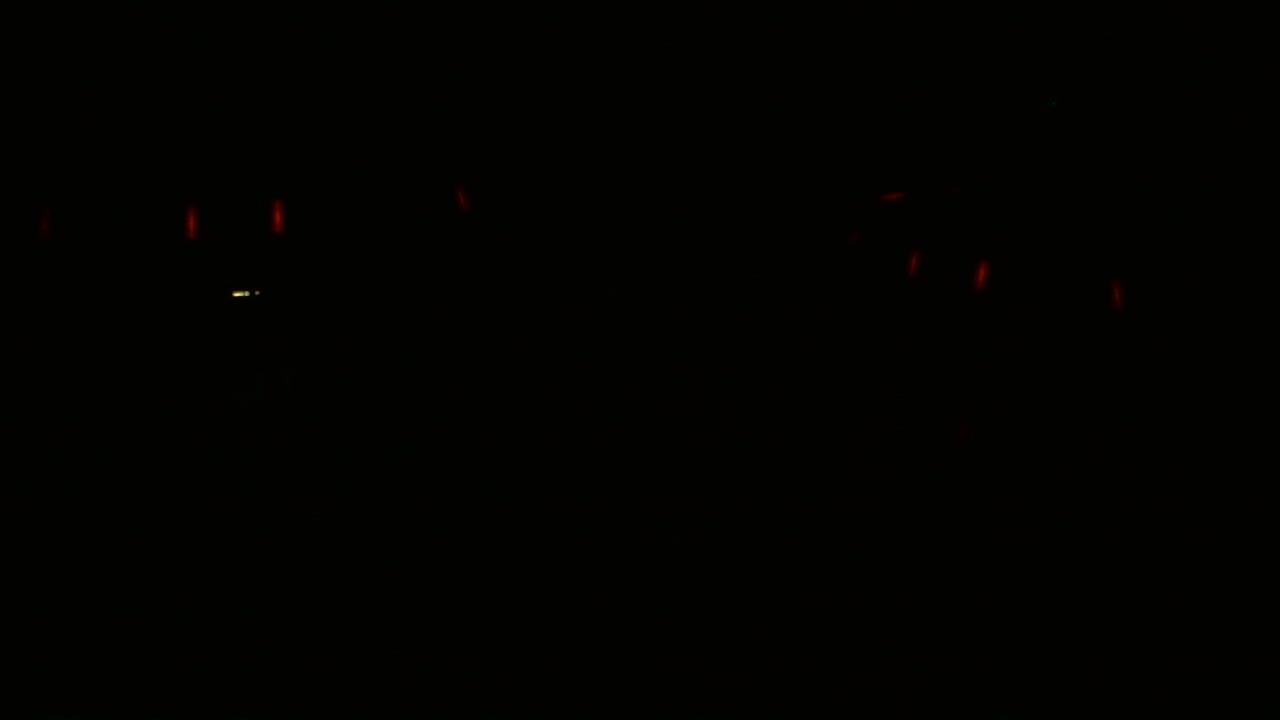pair1: (903, 245, 993, 295), (185, 199, 288, 238)
